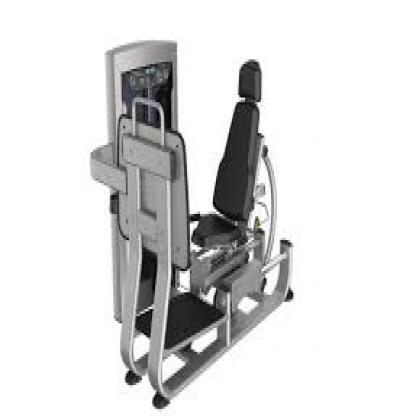leg press: (88, 30, 312, 414)
